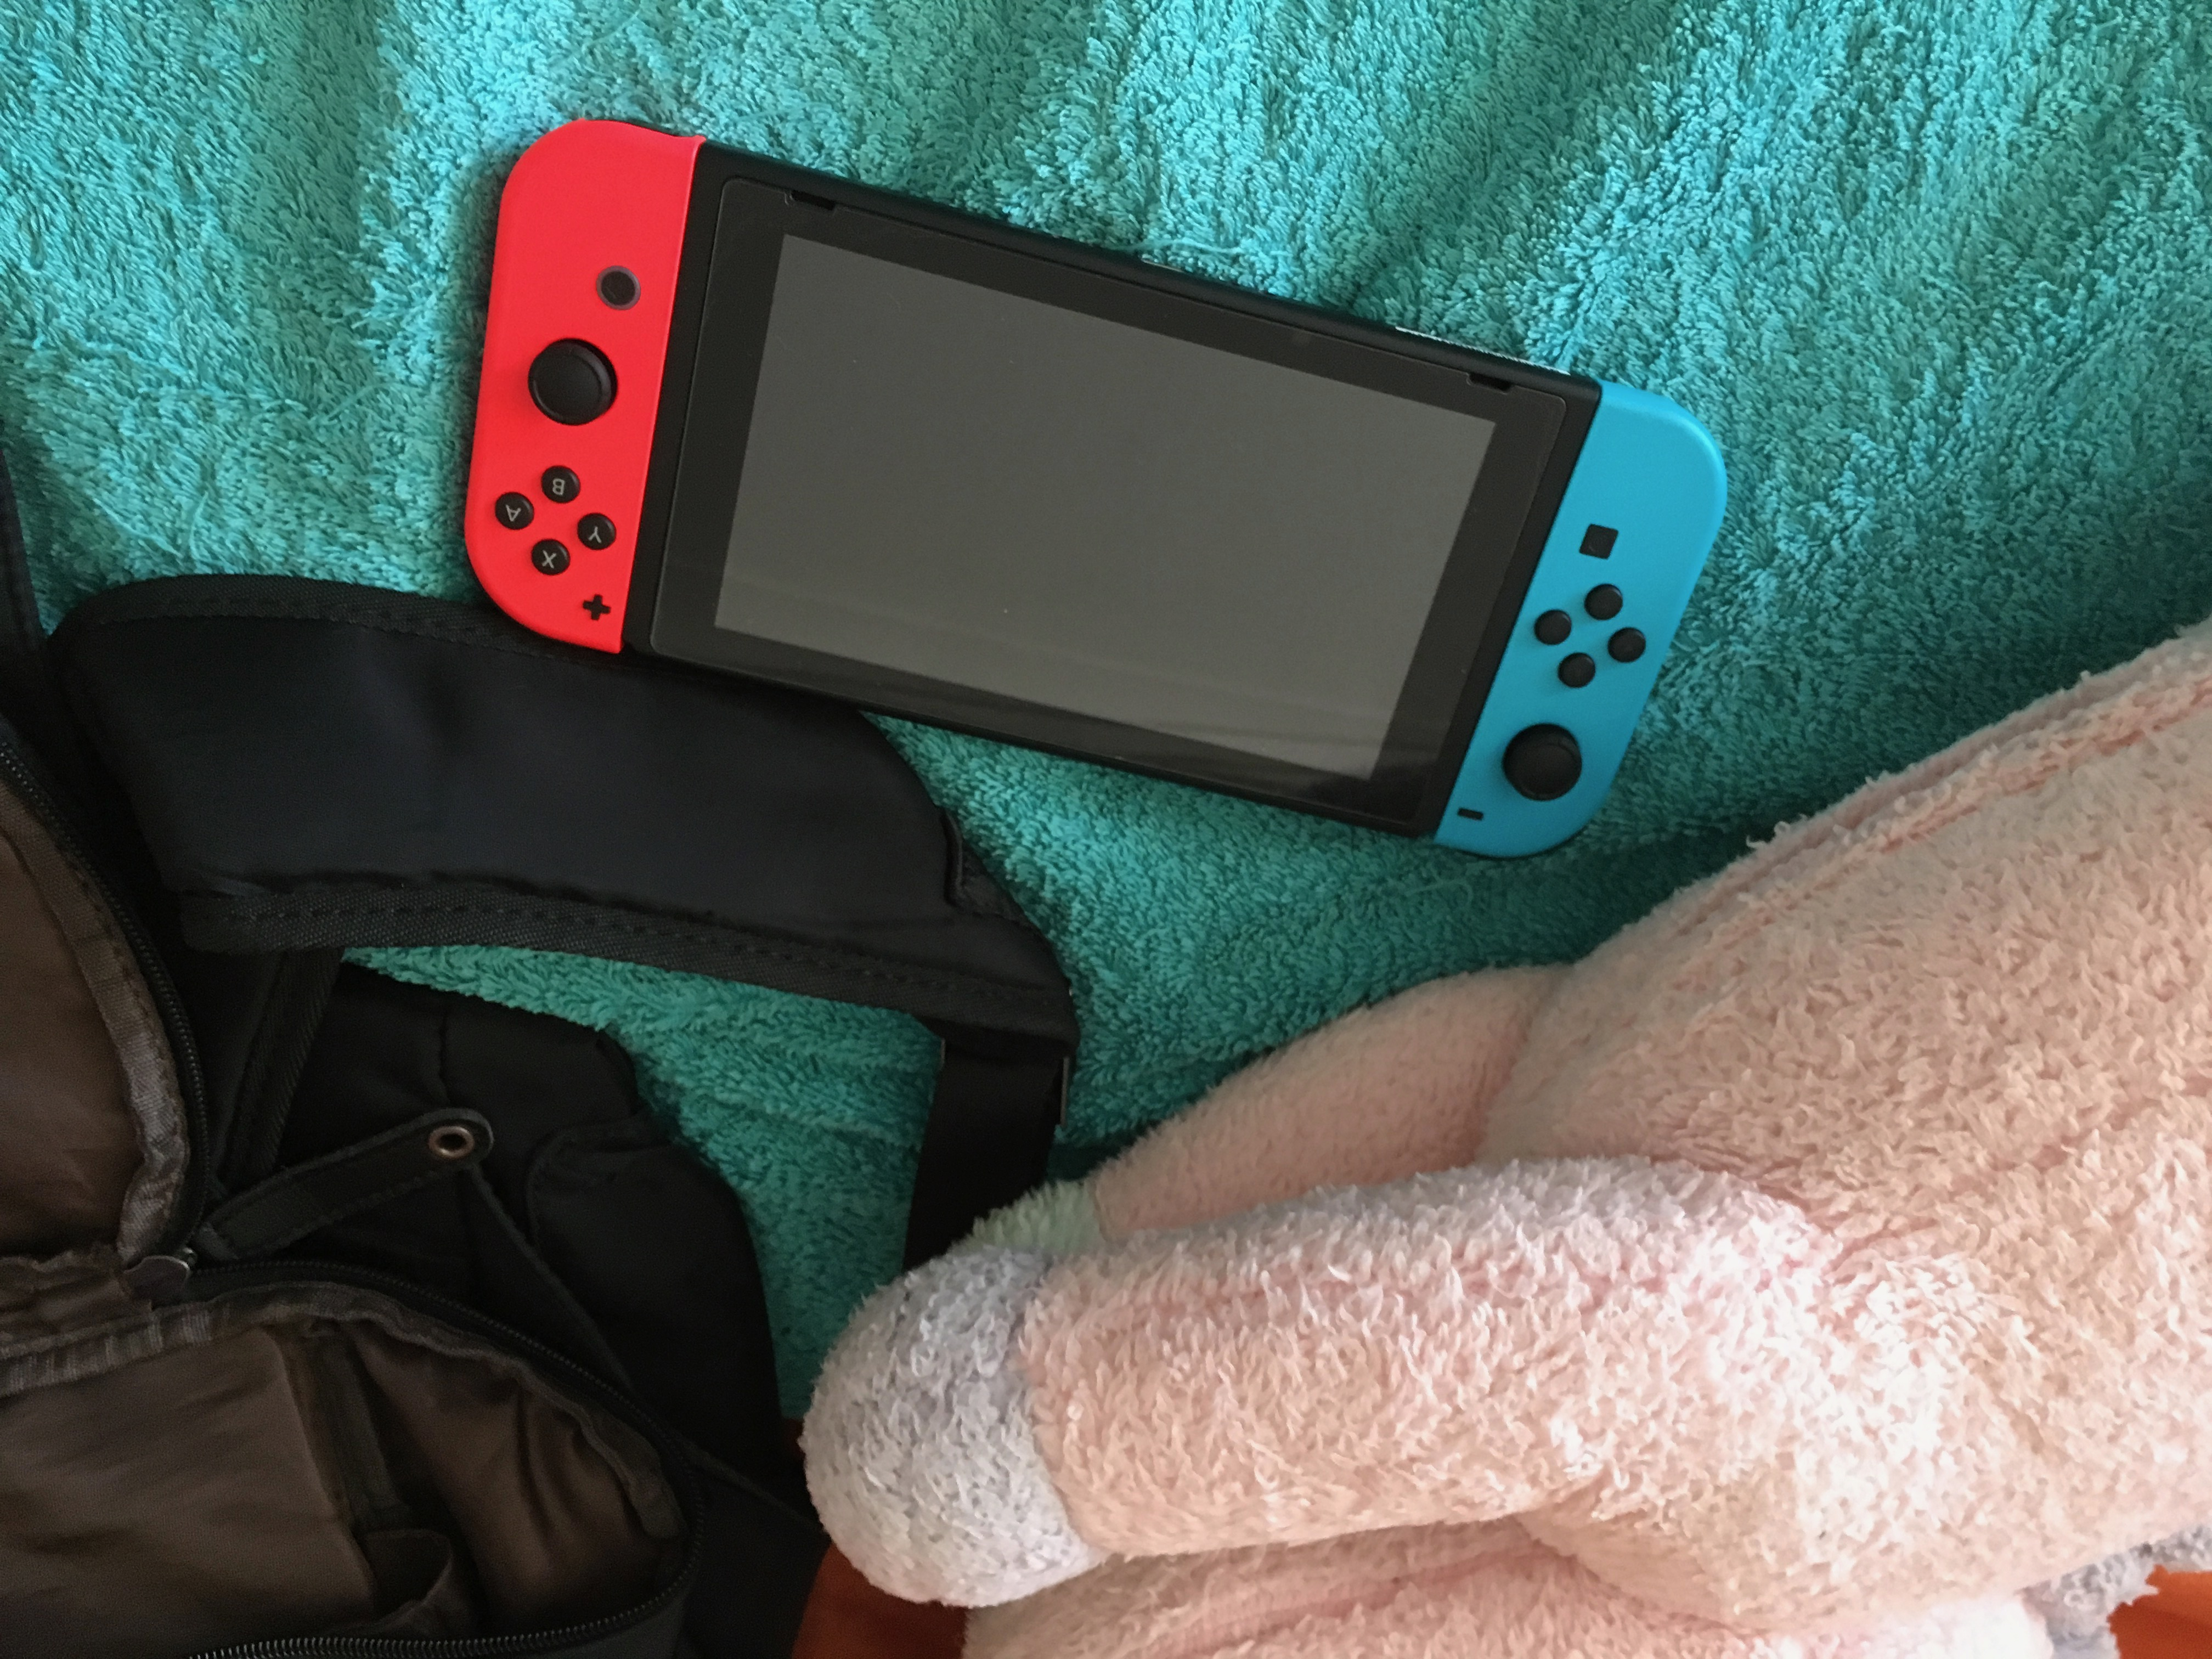NintendoSwitch: (448, 112, 1742, 877)
